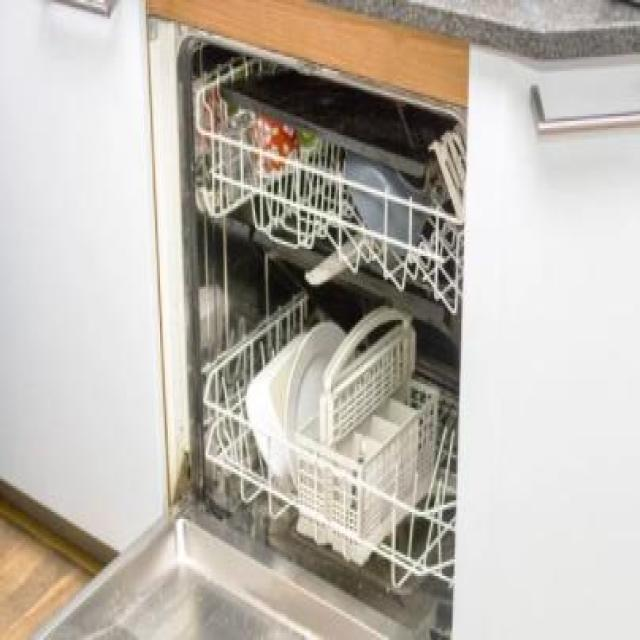dishwasher: (24, 19, 466, 638)
